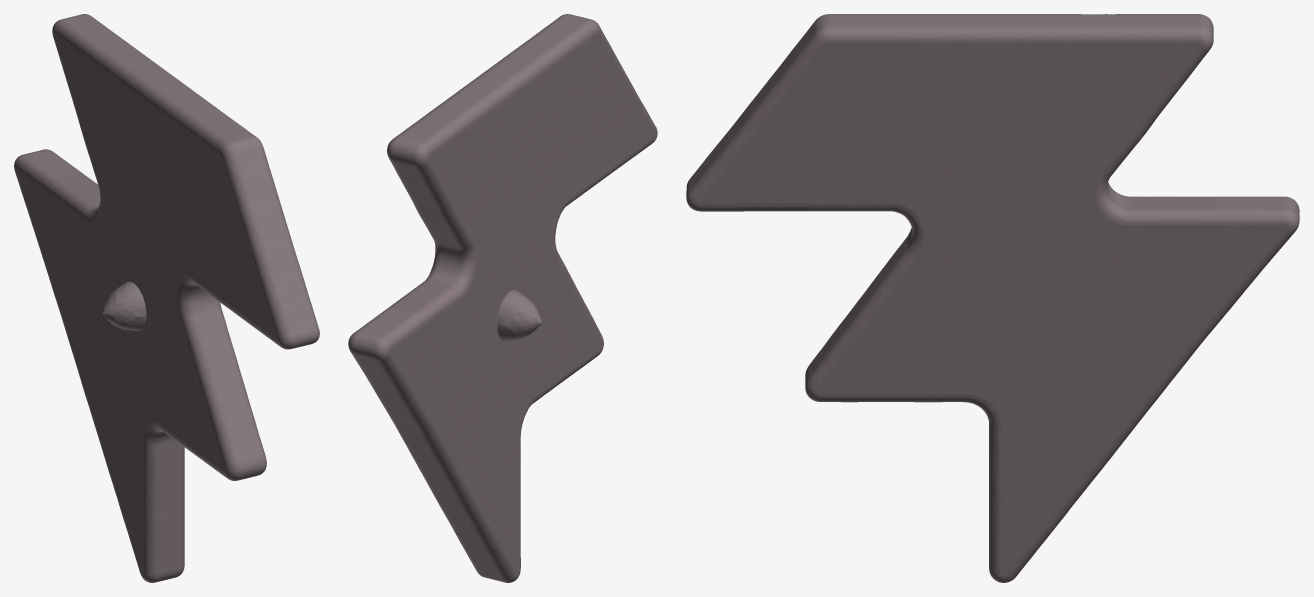
The model's file is vite.glb.
The picture shows the model from 3 angles, left to right: view 1: azimuth 30°, elevation 25°; view 2: azimuth 150°, elevation 25°; view 3: azimuth 270°, elevation 25°; orthographic projection. The views are drawn at different scales.
Parts seen in each view (by area): view 1: tripo_node_d6f6a0c3-fe9b-4565-a03b-9414401cff83; view 2: tripo_node_d6f6a0c3-fe9b-4565-a03b-9414401cff83; view 3: tripo_node_d6f6a0c3-fe9b-4565-a03b-9414401cff83.
Boxes of the visible parts, x1,y1,x2,y2 form: tripo_node_d6f6a0c3-fe9b-4565-a03b-9414401cff83: (14,14,319,582); tripo_node_d6f6a0c3-fe9b-4565-a03b-9414401cff83: (348,14,657,582); tripo_node_d6f6a0c3-fe9b-4565-a03b-9414401cff83: (686,14,1299,582).
Bounding box in the file's own units: 0.1495 × 1 × 1.
1 material, 1 textured.
